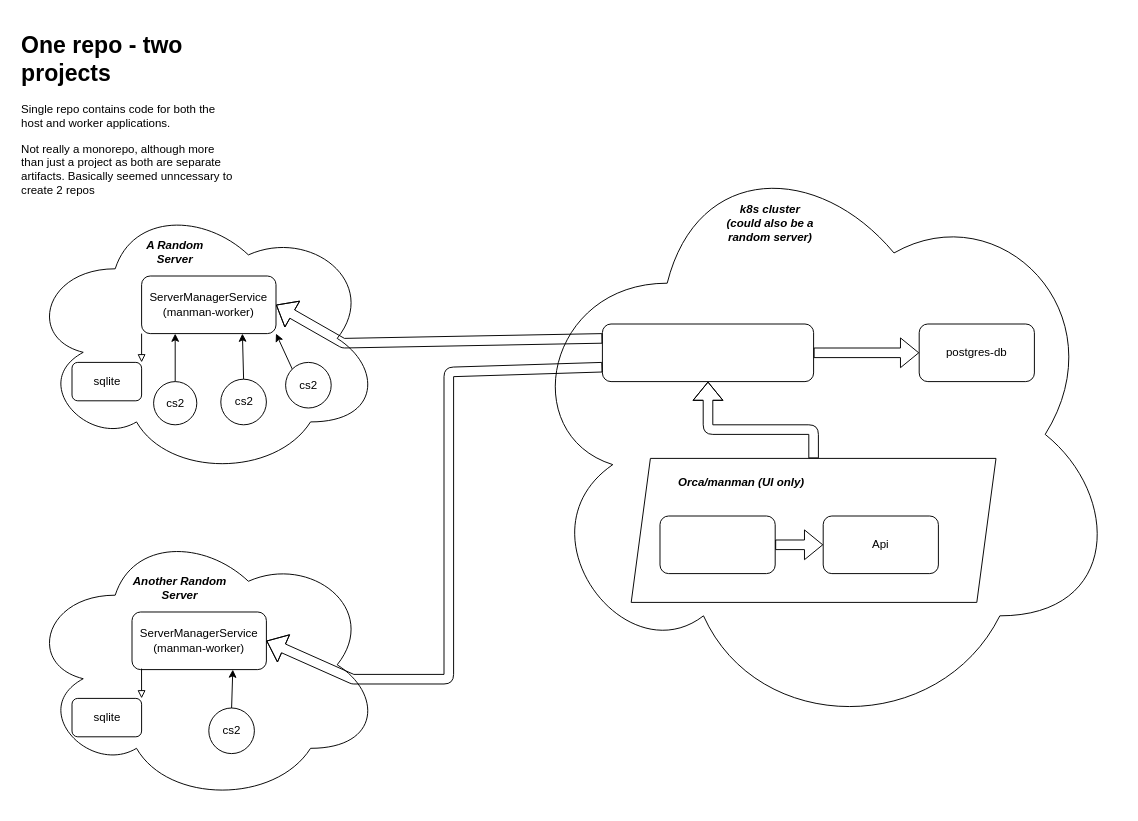
The diagram is 1138 pixels wide and 821 high, and some of its shapes have lost their labels. The box of each missing label's shape, as (x1, y1, x2, y2) in pixels:
InfoDashboard: (659, 515, 775, 574)
ServerManagerServiceManager (manman-host): (601, 323, 814, 382)
